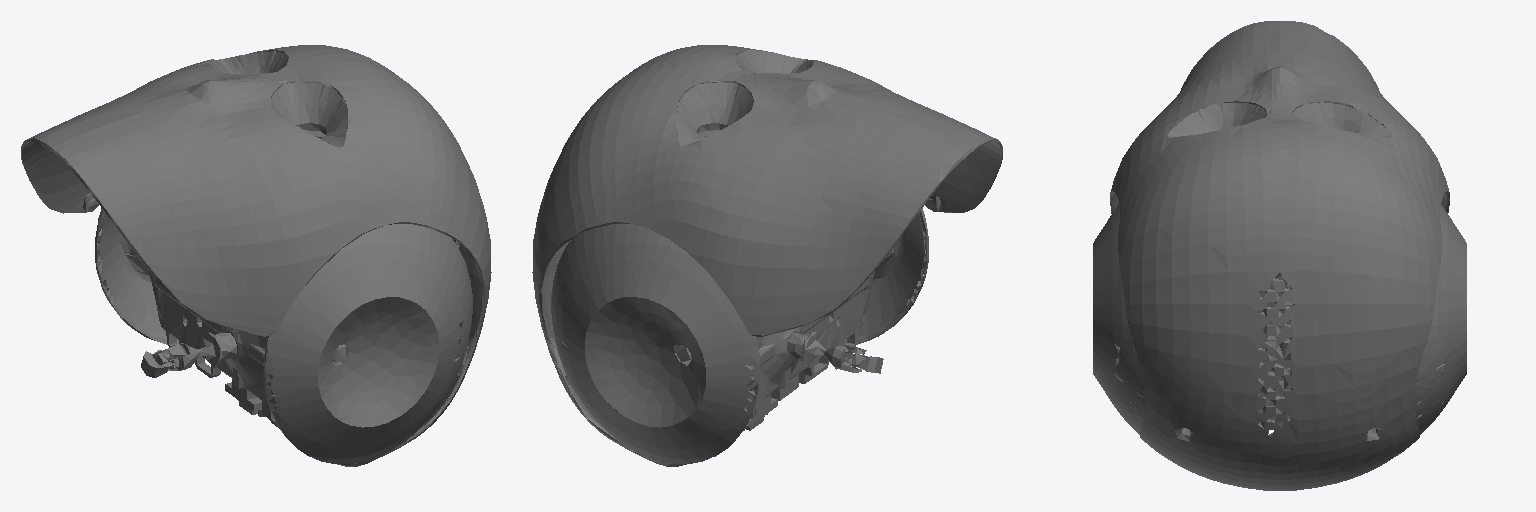
The robot description file, URDF, robot "Head":
<robot name="Head">
  <joint name="HeadActC" type="revolute">
    <origin xyz="0.15925 0.0 0.0" rpy="-1.5708 0.0 0.0"/>
    <axis xyz="1.0 0.0 0.0"/>
    <parent link="HeadBase_Link"/>
    <child link="HeadActC_Link"/>
    <limit effort="400.0" lower="-3.1415926" upper="3.1415926" velocity="3.1415926"/>
  </joint>
  <link name="HeadActC_Link">
    <inertial>
      <origin xyz="-0.017674 7.2495e-17 5.4996e-17" rpy="0.0 0.0 0.0"/>
      <mass value="0.0046686"/>
      <inertia ixx="1e-05" ixy="4.873599999999988e-23" ixz="5.031600000000013e-23" iyy="1.003789e-05" iyz="-4.798999999999274e-09" izz="1.004626e-05"/>
    </inertial>
    <visual name="HeadActC_Visual">
      <origin xyz="0.0 0.0 0.0" rpy="0.0 0.0 0.0"/>
      <geometry>
        <mesh filename="../meshes/lfs-stl/Head_ActC.stl"/>
      </geometry>
      <material name="">
        <color rgba="0.89804 0.91765 0.92941 1.0"/>
      </material>
    </visual>
    <collision name="HeadActC_Collision">
      <origin xyz="0.0 0.0 0.0" rpy="0.0 0.0 0.0"/>
      <geometry>
        <mesh filename="../meshes/lfs-stl/Head_ActC_convexhull.stl" scale="1.0 1.0 1.0"/>
      </geometry>
    </collision>
  </link>
  <joint name="HeadActL" type="revolute">
    <origin xyz="0.15925 0.0 0.0" rpy="3.1416 0.0 1.5708"/>
    <axis xyz="1.0 0.0 0.0"/>
    <parent link="HeadBase_Link"/>
    <child link="HeadActL_Link"/>
    <limit effort="400.0" lower="-3.1415926" upper="3.1415926" velocity="3.1415926"/>
  </joint>
  <link name="HeadActL_Link">
    <inertial>
      <origin xyz="-0.018628 0.0 1.3747e-17" rpy="0.0 0.0 0.0"/>
      <mass value="0.049162"/>
      <inertia ixx="1.50716e-05" ixy="3.3203e-22" ixz="-3.6271000000000003e-22" iyy="1.0000000000000003e-05" iyz="-8.470329472543003e-22" izz="1.0000000000000003e-05"/>
    </inertial>
    <visual name="HeadActL_Visual">
      <origin xyz="0.0 0.0 0.0" rpy="0.0 0.0 0.0"/>
      <geometry>
        <mesh filename="../meshes/lfs-stl/Head_ActL.stl"/>
      </geometry>
      <material name="">
        <color rgba="0.69804 0.69804 0.69804 1.0"/>
      </material>
    </visual>
    <collision name="HeadActL_Collision">
      <origin xyz="0.0 0.0 0.0" rpy="0.0 0.0 0.0"/>
      <geometry>
        <mesh filename="../meshes/lfs-stl/Head_ActL_convexhull.stl" scale="1.0 1.0 1.0"/>
      </geometry>
    </collision>
  </link>
  <joint name="HeadActR" type="revolute">
    <origin xyz="0.15925 0.0 0.0" rpy="0.0 0.0 -1.5708"/>
    <axis xyz="1.0 0.0 0.0"/>
    <parent link="HeadBase_Link"/>
    <child link="HeadActR_Link"/>
    <limit effort="400.0" lower="-3.1415926" upper="3.1415926" velocity="3.1415926"/>
  </joint>
  <link name="HeadActR_Link">
    <inertial>
      <origin xyz="-0.018628 -1.3878e-17 9.5749e-18" rpy="0.0 0.0 0.0"/>
      <mass value="0.049162"/>
      <inertia ixx="1.5071600000000002e-05" ixy="2.9254000000000035e-22" ixz="-3.611699999999999e-22" iyy="1.0000000000000008e-05" iyz="-2.541098841762901e-21" izz="1e-05"/>
    </inertial>
    <visual name="HeadActR_Visual">
      <origin xyz="0.0 0.0 0.0" rpy="0.0 0.0 0.0"/>
      <geometry>
        <mesh filename="../meshes/lfs-stl/Head_ActR.stl"/>
      </geometry>
      <material name="">
        <color rgba="0.69804 0.69804 0.69804 1.0"/>
      </material>
    </visual>
    <collision name="HeadActR_Collision">
      <origin xyz="0.0 0.0 0.0" rpy="0.0 0.0 0.0"/>
      <geometry>
        <mesh filename="../meshes/lfs-stl/Head_ActR_convexhull.stl" scale="1.0 1.0 1.0"/>
      </geometry>
    </collision>
  </link>
  <link name="HeadBase_Link">
    <inertial>
      <origin xyz="0.074228 -3.6471e-05 -0.00062034" rpy="0.0 0.0 0.0"/>
      <mass value="1.339"/>
      <inertia ixx="0.0017089" ixy="4.2668e-08" ixz="5.2598e-08" iyy="0.0014476" iyz="7.0143e-07" izz="0.0013396"/>
    </inertial>
    <visual name="HeadBase_Visual">
      <origin xyz="0.0 0.0 0.0" rpy="0.0 0.0 0.0"/>
      <geometry>
        <mesh filename="../meshes/lfs-stl/Head_Base.stl"/>
      </geometry>
      <material name="">
        <color rgba="0.69804 0.69804 0.69804 1.0"/>
      </material>
    </visual>
    <collision name="HeadBase_Collision">
      <origin xyz="0.0 0.0 0.0" rpy="0.0 0.0 0.0"/>
      <geometry>
        <mesh filename="../meshes/lfs-stl/Head_Base_convexhull.stl" scale="1.0 1.0 1.0"/>
      </geometry>
    </collision>
  </link>
  <joint name="HeadPitch" type="revolute">
    <origin xyz="0.15925 0.0 0.0" rpy="0.0 0.0 -1.5708"/>
    <axis xyz="1.0 0.0 0.0"/>
    <parent link="HeadBase_Link"/>
    <child link="HeadPitch_Link"/>
    <limit effort="400.0" lower="-0.5235987755982988" upper="0.5235987755982988" velocity="3.1415926"/>
  </joint>
  <link name="HeadPitch_Link">
    <inertial>
      <origin xyz="3.73800046473431e-08 -4.45791975556276e-09 0.00296950883117566" rpy="0.0 0.0 0.0"/>
      <mass value="0.0135306815484183"/>
      <inertia ixx="1.0900469792997046e-05" ixy="-1.983276674419689e-12" ixz="2.9229038977620623e-12" iyy="1.1777940400612256e-05" iyz="-1.006944634337718e-13" izz="1.0000000000009494e-05"/>
    </inertial>
    <visual name="HeadPitch_Visual">
      <origin xyz="0.0 0.0 0.0" rpy="0.0 0.0 0.0"/>
      <geometry>
        <mesh filename="../meshes/lfs-stl/HeadPitch.stl"/>
      </geometry>
      <material name="">
        <color rgba="0.898039215686275 0.917647058823529 0.929411764705882 1.0"/>
      </material>
    </visual>
    <collision name="HeadPitch_Collision">
      <origin xyz="0.0 0.0 0.0" rpy="0.0 0.0 0.0"/>
      <geometry>
        <mesh filename="../meshes/lfs-stl/HeadPitch_convexhull.stl" scale="1.0 1.0 1.0"/>
      </geometry>
    </collision>
  </link>
  <joint name="HeadRoll" type="revolute">
    <origin xyz="0.0 0.0 0.0" rpy="-1.5708 -1.5708 0.0"/>
    <axis xyz="1.0 0.0 0.0"/>
    <parent link="HeadPitch_Link"/>
    <child link="HeadRoll_Link"/>
    <limit effort="400.0" lower="-0.7853981633974483" upper="0.7853981633974483" velocity="3.1415926"/>
  </joint>
  <link name="HeadRoll_Link">
    <inertial>
      <origin xyz="-0.00844253878850604 -4.18737776903302e-08 0.00884603238325907" rpy="0.0 0.0 0.0"/>
      <mass value="0.109788715391496"/>
      <inertia ixx="1.83994177455821e-05" ixy="5.13405597754959e-11" ixz="-1.07875589146075e-08" iyy="1.359548687449e-05" iyz="-9.3011670884998e-10" izz="1.39946184243742e-05"/>
    </inertial>
    <visual name="HeadRoll_Visual">
      <origin xyz="0.0 0.0 0.0" rpy="0.0 0.0 0.0"/>
      <geometry>
        <mesh filename="../meshes/lfs-stl/HeadRoll.stl"/>
      </geometry>
      <material name="">
        <color rgba="0.898039215686275 0.917647058823529 0.929411764705882 1.0"/>
      </material>
    </visual>
    <collision name="HeadRoll_Collision">
      <origin xyz="0.0 0.0 0.0" rpy="0.0 0.0 0.0"/>
      <geometry>
        <mesh filename="../meshes/lfs-stl/HeadRoll_convexhull.stl" scale="1.0 1.0 1.0"/>
      </geometry>
    </collision>
  </link>
  <joint name="HeadYaw" type="revolute">
    <origin xyz="0.0 0.0 0.0" rpy="1.5708 -1.5708 0.0"/>
    <axis xyz="1.0 0.0 0.0"/>
    <parent link="HeadRoll_Link"/>
    <child link="HeadYaw_Link"/>
    <limit effort="400.0" lower="-1.5707963267948966" upper="1.5707963267948966" velocity="3.1415926"/>
  </joint>
  <link name="HeadYaw_Link">
    <inertial>
      <origin xyz="0.0865202750448954 -0.0440420348532486 -0.00282280741895916" rpy="0.0 0.0 0.0"/>
      <mass value="1.46451930762968"/>
      <inertia ixx="0.00400957562211491" ixy="-0.000773636855316844" ixz="-8.24762860917018e-06" iyy="0.00399135489001388" iyz="-9.04346097850664e-06" izz="0.00411109150468807"/>
    </inertial>
    <visual name="HeadYaw_Visual">
      <origin xyz="0.0 0.0 0.0" rpy="0.0 0.0 0.0"/>
      <geometry>
        <mesh filename="../meshes/lfs-stl/HeadYaw.stl"/>
      </geometry>
      <material name="">
        <color rgba="0.498039215686275 0.498039215686275 0.498039215686275 1.0"/>
      </material>
    </visual>
    <collision name="HeadYaw_Collision">
      <origin xyz="0.0 0.0 0.0" rpy="0.0 0.0 0.0"/>
      <geometry>
        <mesh filename="../meshes/lfs-stl/HeadYaw_convexhull.stl" scale="1.0 1.0 1.0"/>
      </geometry>
    </collision>
  </link>
  <transmission name="head_joints">
    <type>MultiJointLinearTransmission</type>
    <joint name="HeadActC">
      <depends_on joint="HeadYaw" multiplier="1.0" offset="0"/>
    </joint>
    <joint name="HeadActL">
      <depends_on joint="HeadRoll" multiplier="1.0" offset="0"/>
      <depends_on joint="HeadPitch" multiplier="-1.0" offset="0"/>
    </joint>
    <joint name="HeadActR">
      <depends_on joint="HeadRoll" multiplier="-1.0" offset="0"/>
      <depends_on joint="HeadPitch" multiplier="-1.0" offset="0"/>
    </joint>
  </transmission>
</robot>

--- Facts derived from the render (not from the file) ---
The picture shows the robot from 3 angles, left to right: view 1: azimuth 30°, elevation 25°; view 2: azimuth 150°, elevation 25°; view 3: azimuth 270°, elevation 25°; orthographic projection.
Robot: Head — 7 links, 6 joints (6 revolute); root link HeadBase_Link; default pose: every joint at zero.
Links seen in each view (by area): view 1: HeadYaw_Link; view 2: HeadYaw_Link; view 3: HeadYaw_Link.
Link boxes in pixels (x1,y1,x2,y2): HeadYaw_Link: [21, 45, 491, 466]; HeadYaw_Link: [532, 45, 1002, 466]; HeadYaw_Link: [1093, 21, 1466, 490].
Size in the robot's own frame: 0.244 by 0.21 by 0.2281 metres.
Meshes: 7 distinct files referenced, 1 mesh visuals loaded (1 binary STL); not drawn: 6 (reference not matched to a file when rendering).